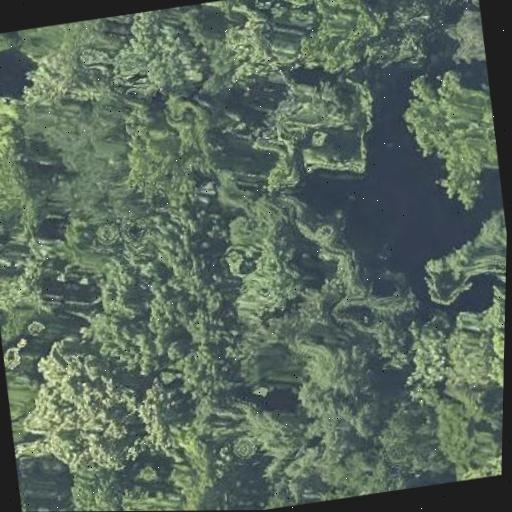tree-top: (0, 324, 165, 487), (72, 218, 236, 372), (242, 64, 387, 198), (389, 57, 507, 217), (100, 84, 235, 214), (20, 103, 128, 226), (289, 346, 397, 465), (391, 301, 505, 413), (104, 10, 213, 107), (244, 445, 400, 510), (403, 216, 507, 310), (108, 433, 233, 511), (213, 223, 310, 322), (279, 0, 390, 72), (13, 35, 106, 117), (0, 308, 65, 422), (0, 88, 48, 238), (369, 398, 447, 486), (433, 377, 504, 465), (59, 462, 140, 511), (454, 430, 502, 480)
